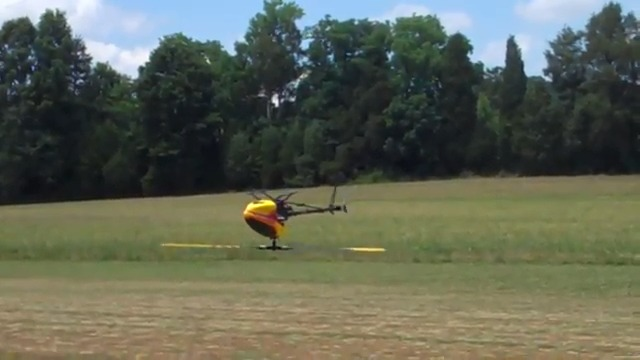helicopter: (156, 184, 389, 256)
